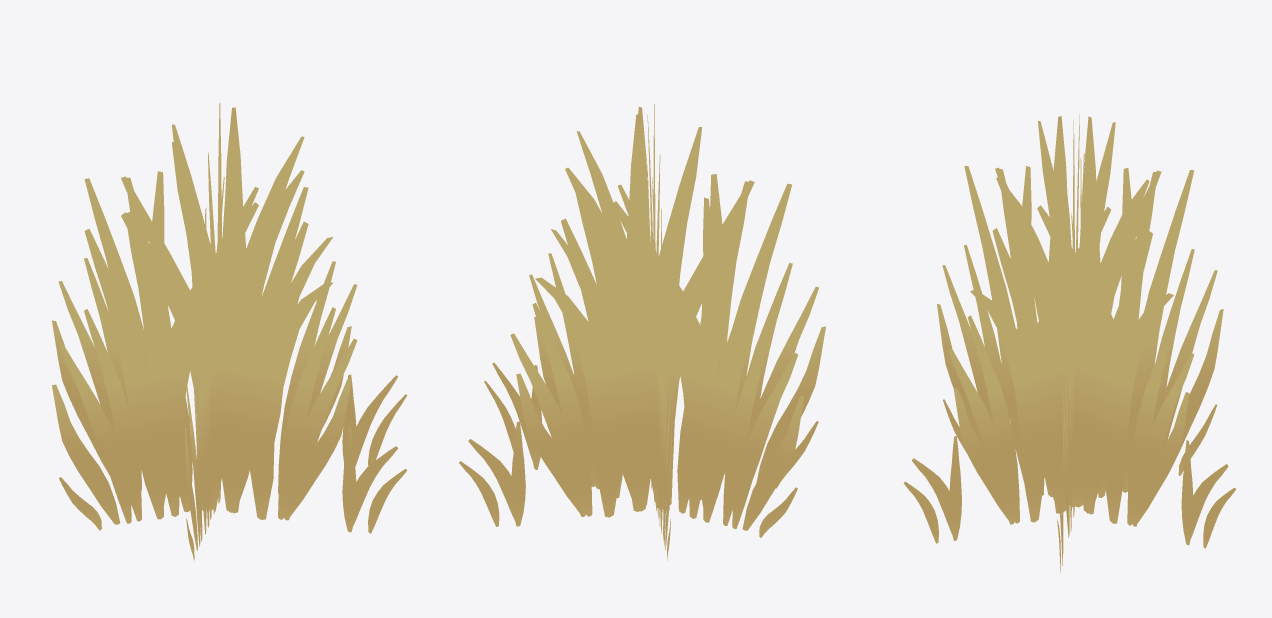
The model's file is SM_Grass_Small01.FBX.
3 renders of one model, left to right at view 1: azimuth 30°, elevation 25°; view 2: azimuth 150°, elevation 25°; view 3: azimuth 270°, elevation 25°, orthographic.
Parts seen in each view (by area): view 1: Plane009, Plane007, Plane008; view 2: Plane008, Plane007, Plane009; view 3: Plane009, Plane008, Plane007.
Part boxes in pixels (bbox=[...]): Plane009: bbox=[52, 114, 406, 533]; Plane007: bbox=[52, 107, 407, 530]; Plane008: bbox=[185, 103, 224, 560]; Plane008: bbox=[459, 114, 825, 526]; Plane007: bbox=[484, 107, 803, 537]; Plane009: bbox=[647, 104, 671, 560]; Plane009: bbox=[903, 116, 1223, 543]; Plane008: bbox=[937, 116, 1235, 548]; Plane007: bbox=[1057, 114, 1084, 572].
Size of the model in its own units: 25.08 by 25.17 by 20.62.
Materials: 1 (1 with a texture image).
